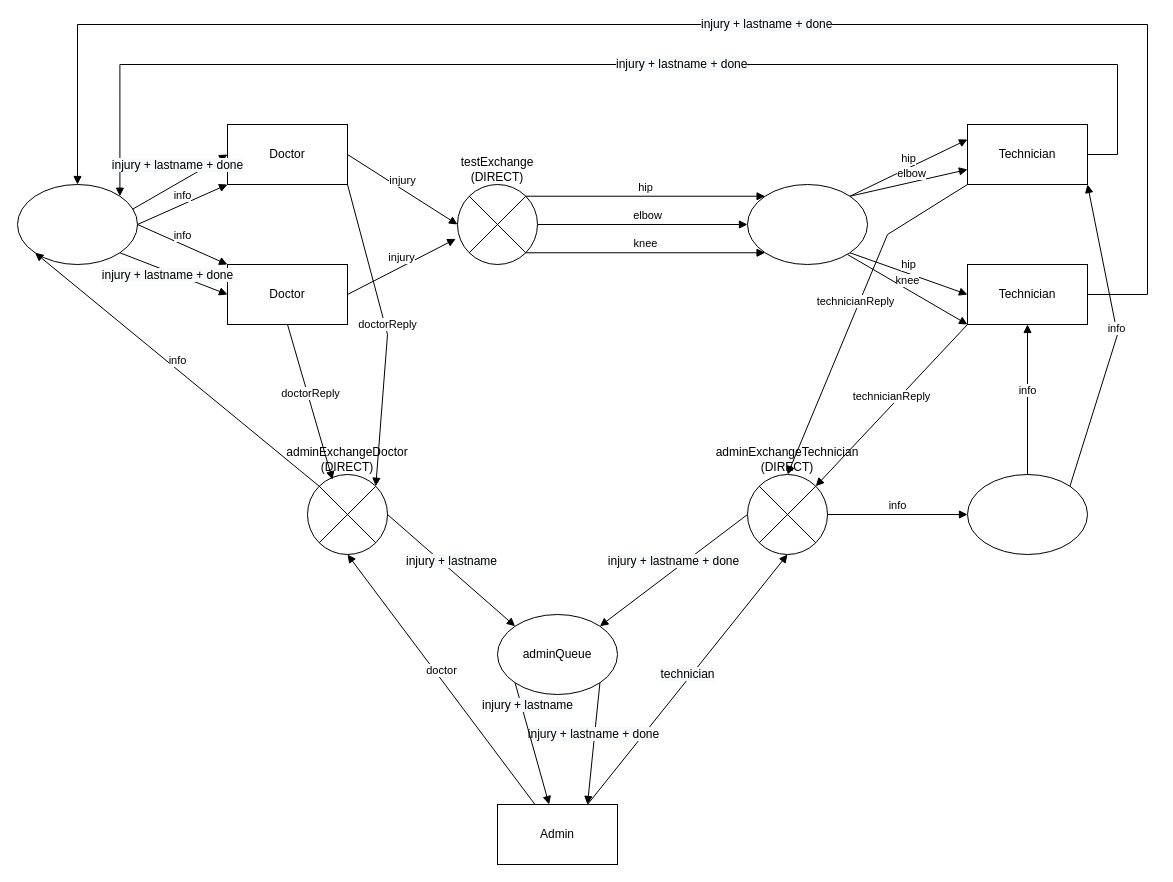
This 1173x882 diagram has some shape labels left out. The shapes that lost their labels are listed below. From the top down, each one's centre as x and y in pixels, then its label:
At [77,224]: "doctorReplyQueue".
At [807,224]: "queue".
At [1027,514]: "technicianAdminQueue".
